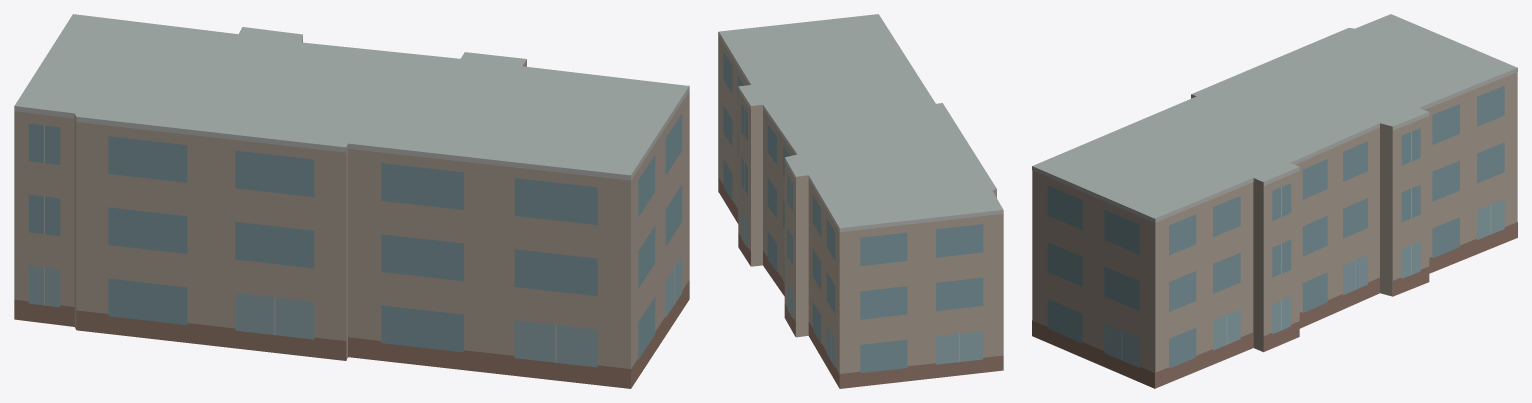
The model's file is survey-upis-33039121.glb.
The picture shows the model from 3 angles, left to right: view 1: azimuth 30°, elevation 25°; view 2: azimuth 150°, elevation 25°; view 3: azimuth 270°, elevation 25°; orthographic projection. The views are drawn at different scales.
Visible parts, largest first — view 1: survey-upis-33039121.tmp; view 2: survey-upis-33039121.tmp; view 3: survey-upis-33039121.tmp.
Boxes of the visible parts, x1,y1,x2,y2 form: survey-upis-33039121.tmp: [14, 14, 689, 388]; survey-upis-33039121.tmp: [718, 14, 1003, 388]; survey-upis-33039121.tmp: [1032, 14, 1517, 388].
Size of the model in its own units: 25.98 by 10.05 by 26.02.
